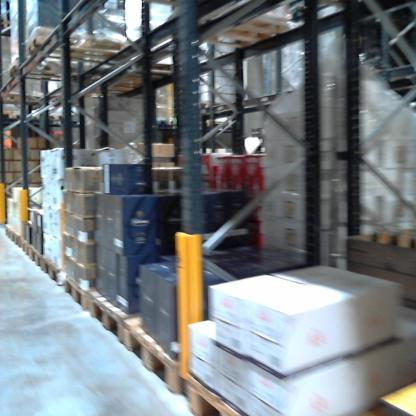pallet: (125, 291, 300, 399), (91, 280, 203, 351), (166, 6, 300, 57), (25, 18, 147, 65), (4, 49, 139, 91), (185, 375, 274, 415), (61, 274, 102, 316), (42, 251, 75, 288), (362, 221, 399, 247), (395, 225, 414, 255), (32, 243, 46, 276), (20, 239, 34, 261), (6, 222, 21, 239), (10, 231, 22, 251)
